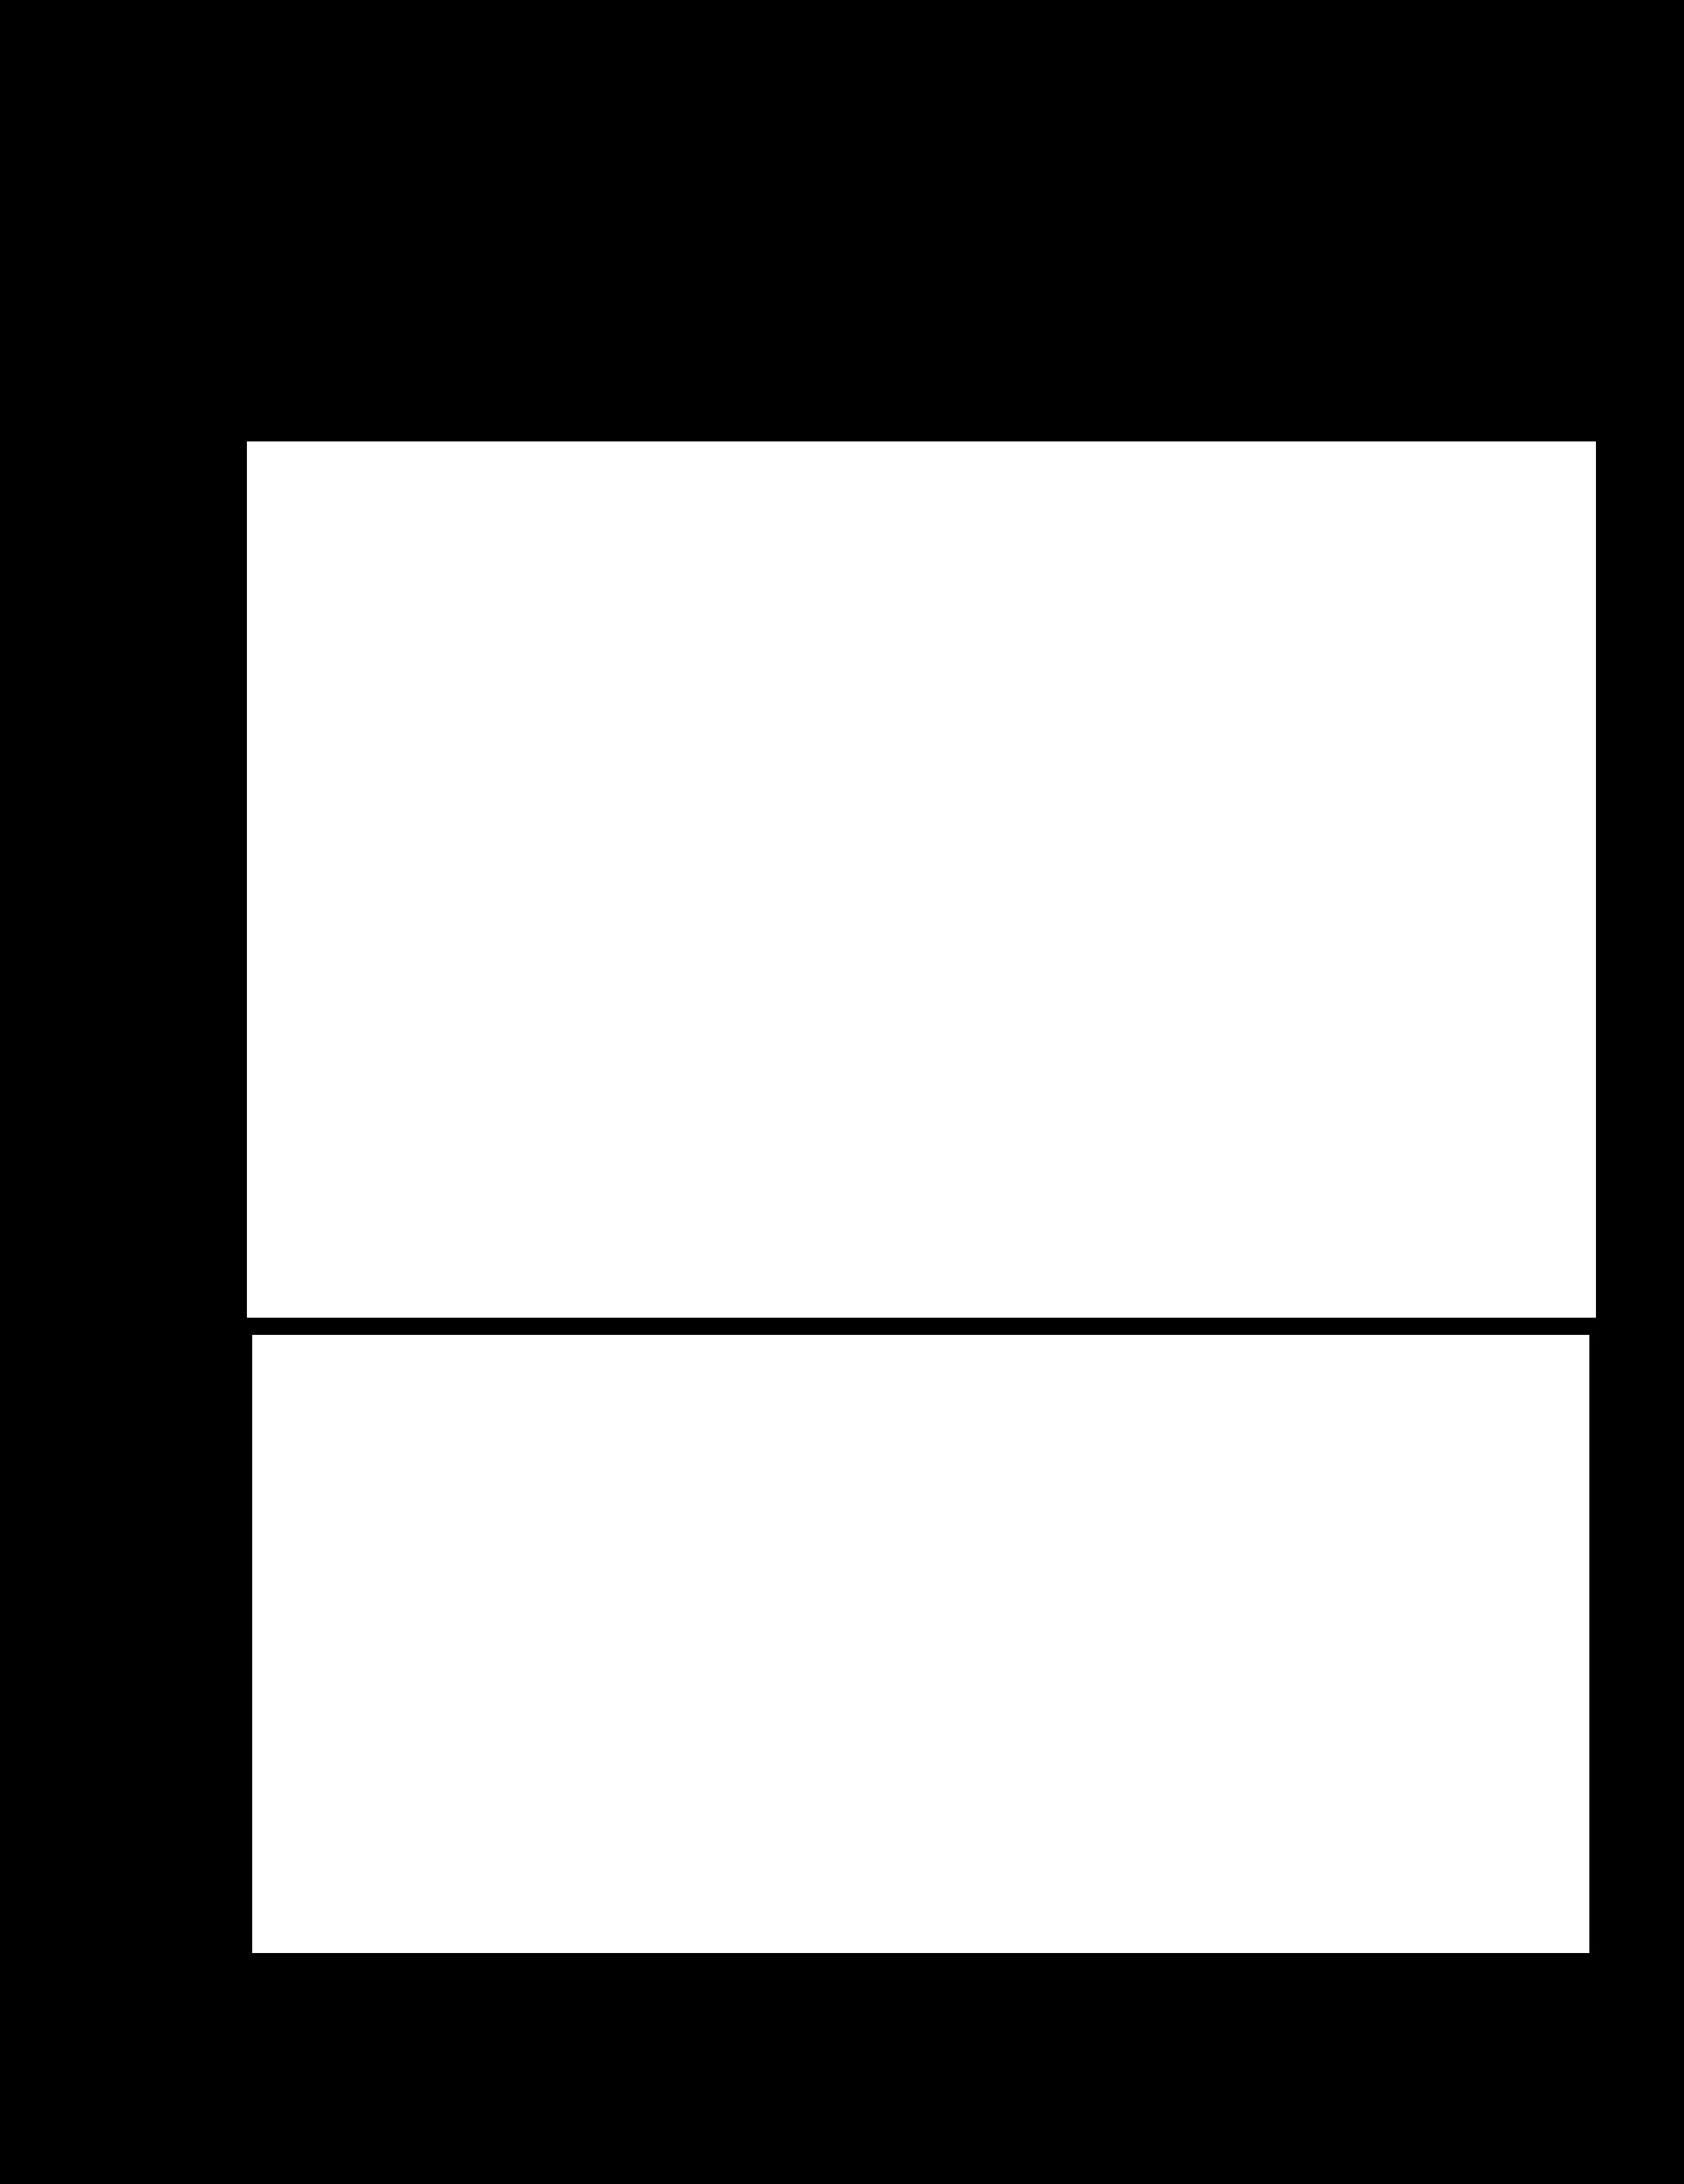table: (248, 442, 1596, 1317), (253, 1335, 1588, 1952)
